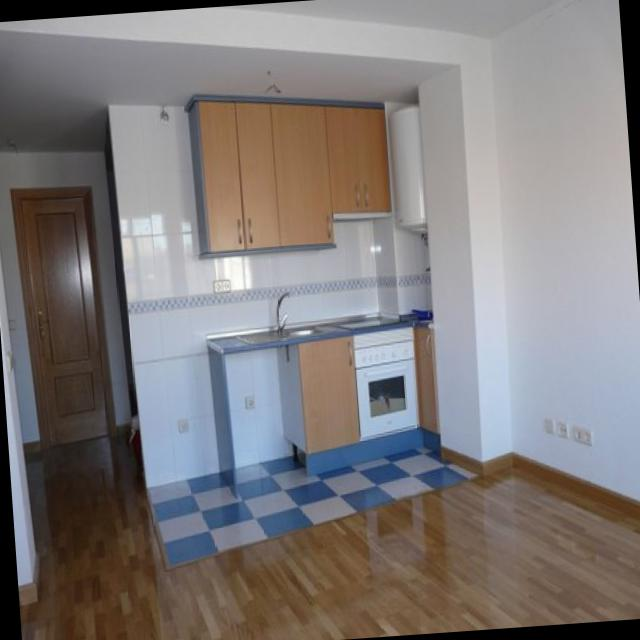ceiling beam: (0, 28, 460, 151), (225, 0, 559, 38)
cumulus: (389, 101, 426, 233)
door bars: (11, 184, 116, 449)
door knob: (33, 300, 49, 342)
electrical socket: (214, 280, 230, 293)
floor -X: (20, 434, 640, 640)
furniture crop: (187, 101, 392, 258), (279, 334, 360, 449)
oven cloth: (351, 325, 420, 439)
plug: (571, 418, 595, 455)
plug point: (558, 421, 568, 439), (179, 417, 190, 432), (246, 394, 257, 407)
sink basin: (238, 323, 345, 347)
tiles: (149, 445, 467, 567)
wall clock: (0, 6, 513, 478), (491, 0, 640, 515), (418, 62, 484, 476)
